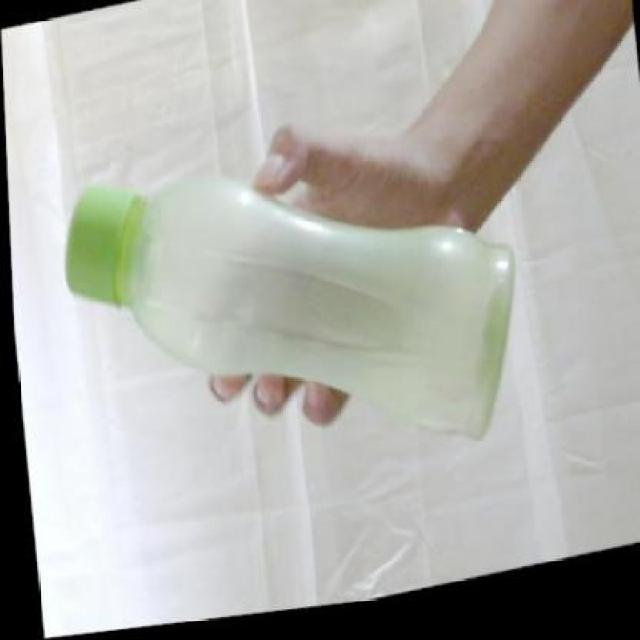Plastic: (61, 157, 519, 440)
